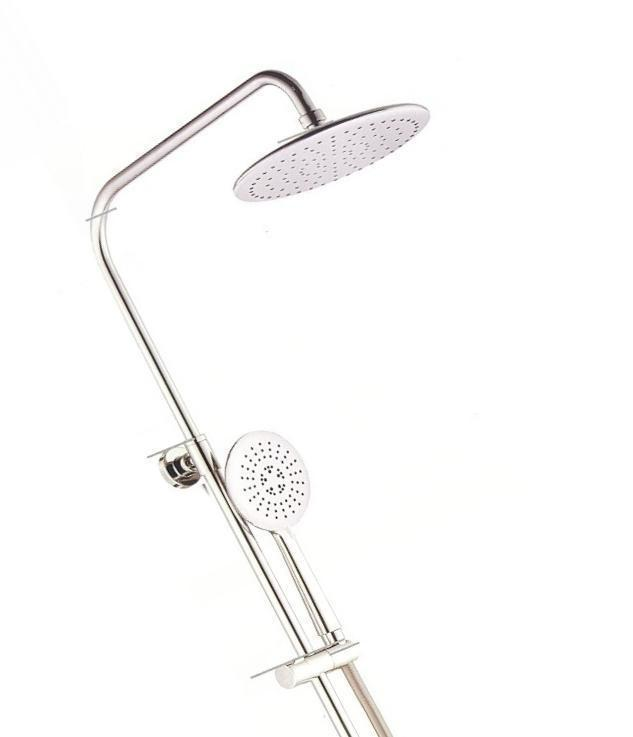Ducha: (81, 38, 438, 736)
